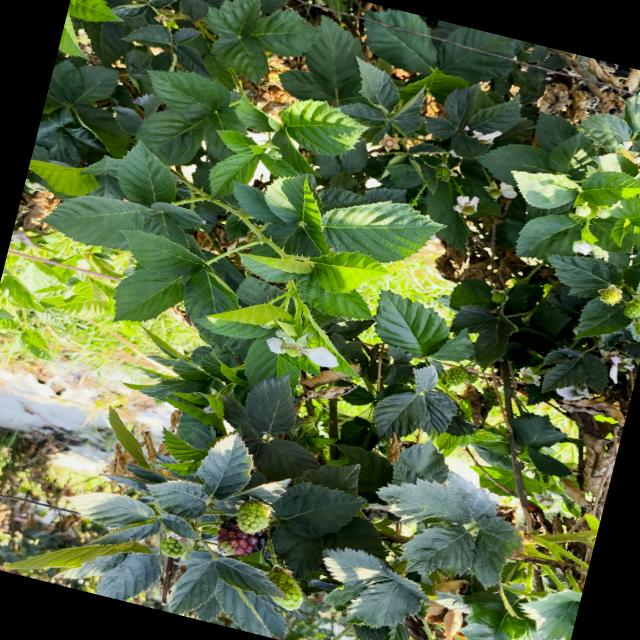flor: (266, 329, 338, 367)
marron: (217, 517, 266, 556)
verde: (268, 567, 303, 610), (236, 501, 268, 533), (160, 536, 184, 558)
